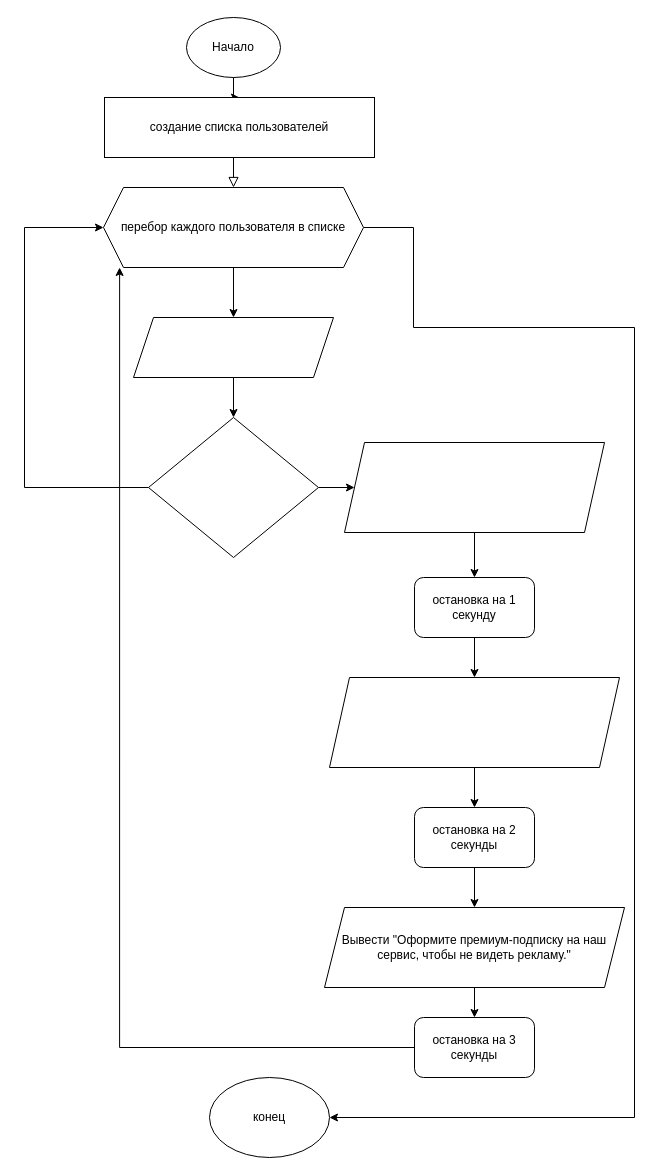
The diagram is 660 pixels wide and 1175 high, and some of its shapes have lost their labels. Here are the shapes that lost their labels. From the top down, the box of each, then its label:
(132, 316, 334, 378): вывести сообщение приветствия по имени
(148, 416, 318, 558): проверка наличия у пользователя премиум-подписки
(344, 442, 604, 532): Вывести "Посетите наш новый сайт с бесплатными играми free.games.for.a.fool.com"
(328, 676, 620, 768): Вывести "Купите подписку на МыКомбо и слушайте музыку везде и всегда."
